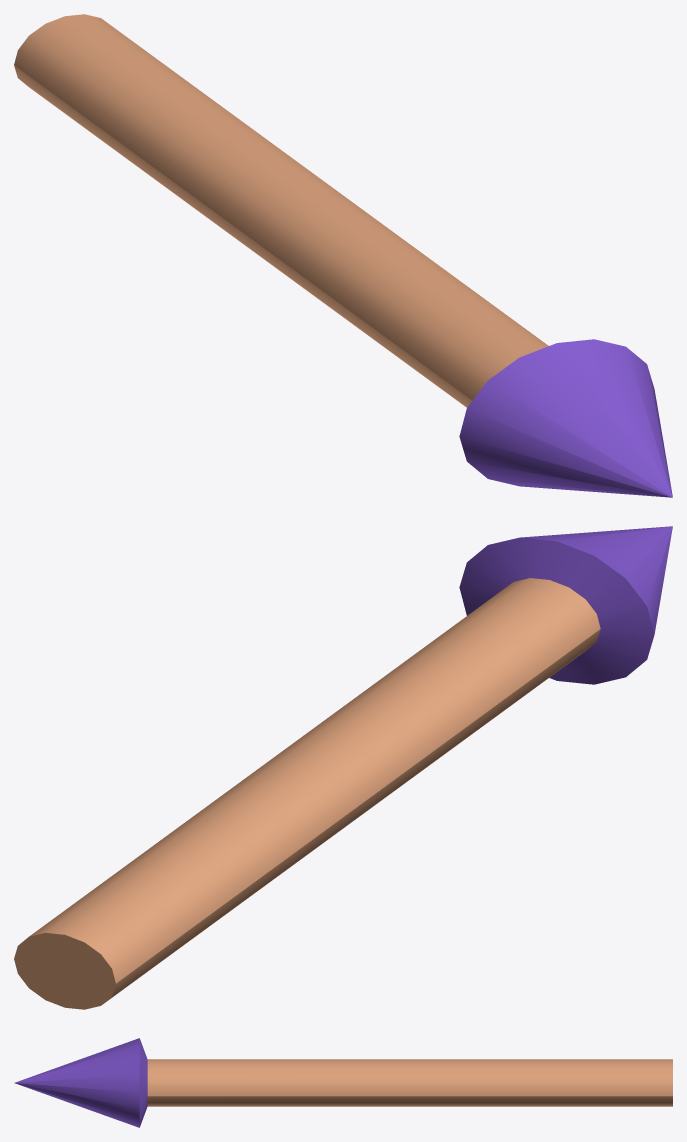
The model's file is Arrow.fbx.
3 views of the same model, one above another, from view 1: azimuth 30°, elevation 25°; view 2: azimuth 150°, elevation 25°; view 3: azimuth 270°, elevation 25° (orthographic). The views are drawn at different scales.
Visible parts, largest first — view 1: Arrow; view 2: Arrow; view 3: Arrow.
Part boxes in pixels (x1=…): Arrow: x1=14, y1=14, x2=672, y2=497; Arrow: x1=14, y1=526, x2=672, y2=1009; Arrow: x1=14, y1=1038, x2=672, y2=1127.
Size of the model in its own units: 1.79 by 1.23 by 9.68.
